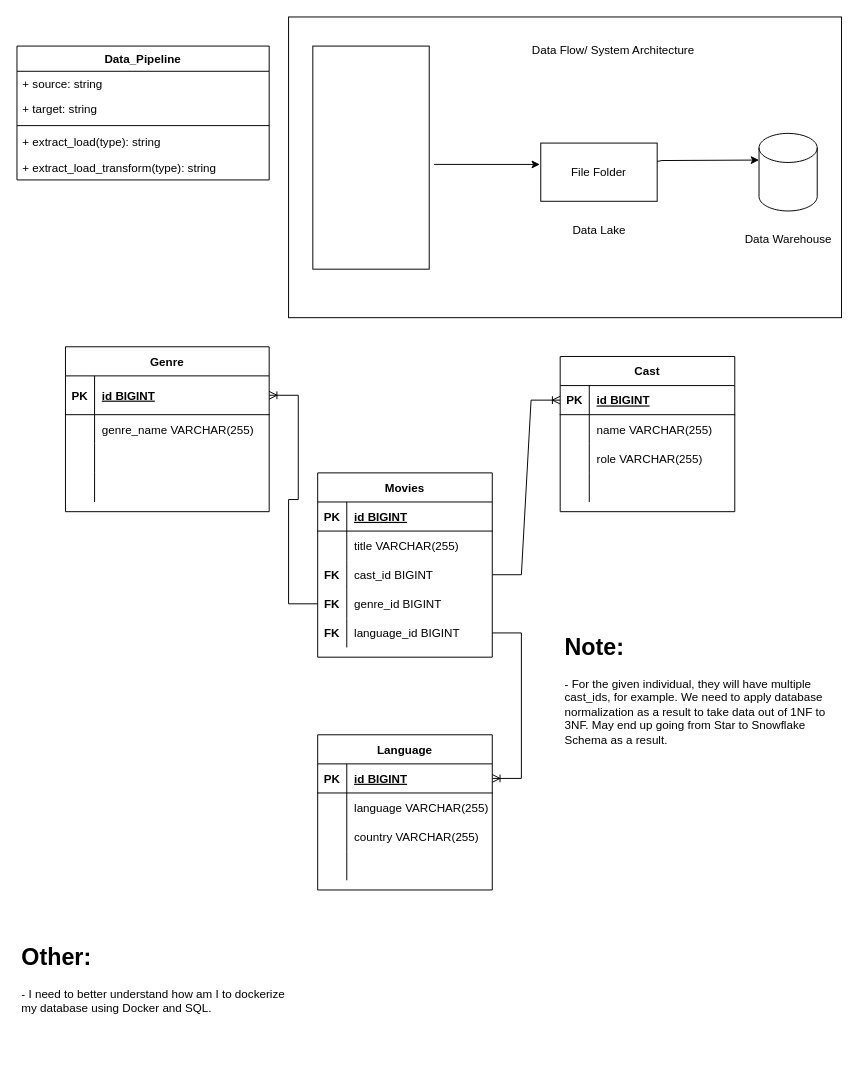
Image size: 858x1082. Some labels were removed from this diagram. Here are the shapes that lost their labels. From the top down, the centre of each, then its label:
At (370,157): "Online Data".
At (787,171): "Postgres".
